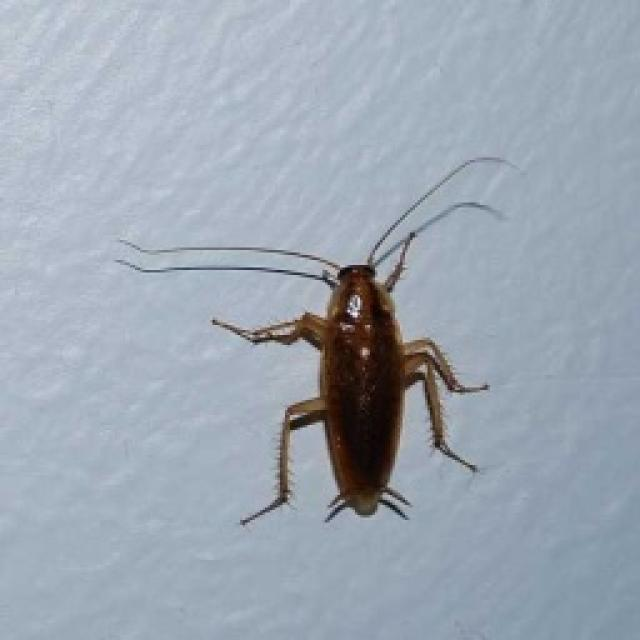cockroach: (111, 150, 526, 531)
